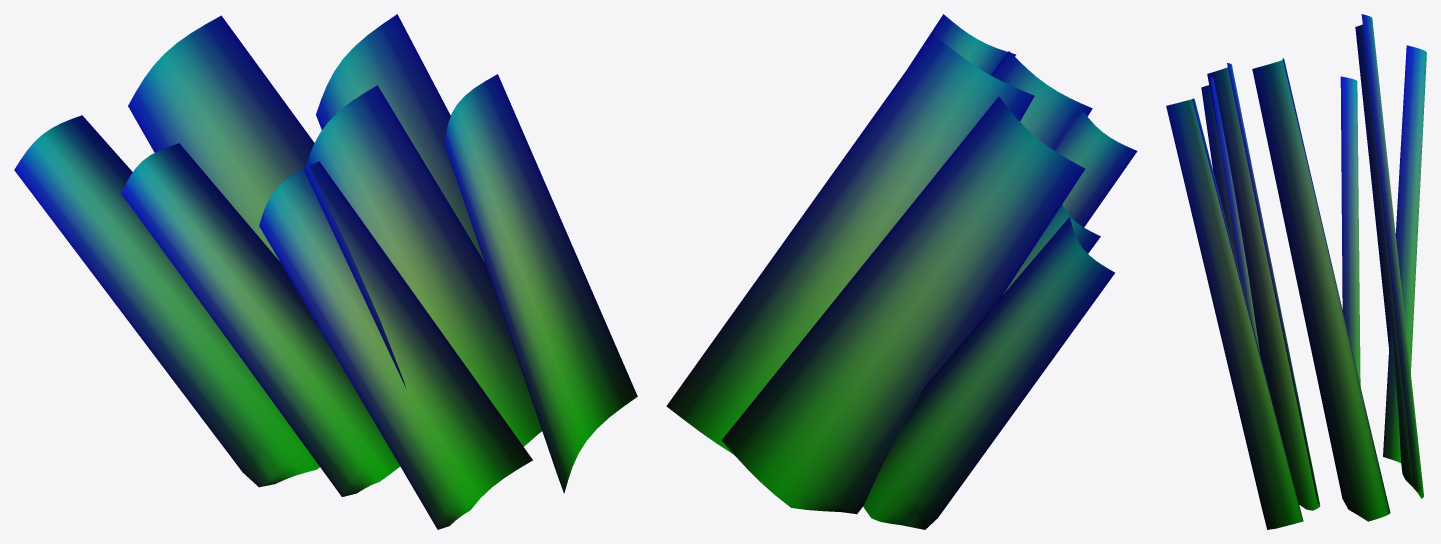
The model's file is VFX_CavernGodRaysMesh.fbx.
The picture shows the model from 3 angles, left to right: view 1: azimuth 30°, elevation 25°; view 2: azimuth 150°, elevation 25°; view 3: azimuth 270°, elevation 25°; orthographic projection. The views are drawn at different scales.
Visible parts, largest first — view 1: VFX_CavernGodRaysMesh_LOD0; view 2: VFX_CavernGodRaysMesh_LOD0; view 3: VFX_CavernGodRaysMesh_LOD0.
Boxes of the visible parts, x1,y1,x2,y2 form: VFX_CavernGodRaysMesh_LOD0: [14, 14, 637, 529]; VFX_CavernGodRaysMesh_LOD0: [666, 14, 1137, 529]; VFX_CavernGodRaysMesh_LOD0: [1166, 14, 1426, 529].
Size of what is drawn, in the model's own units: 1638 by 1451 by 836.
